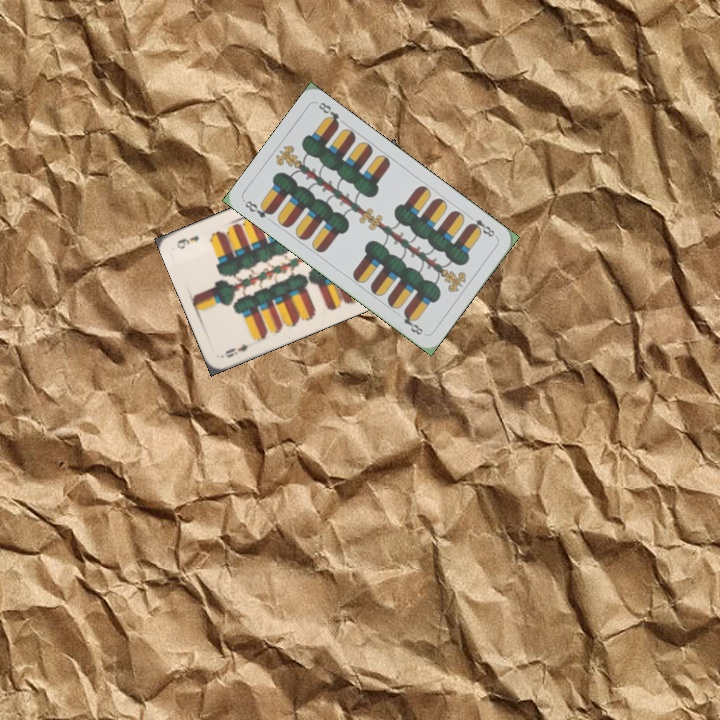E8: (464, 211, 499, 240), (240, 196, 276, 220)
E9: (221, 340, 251, 360)
